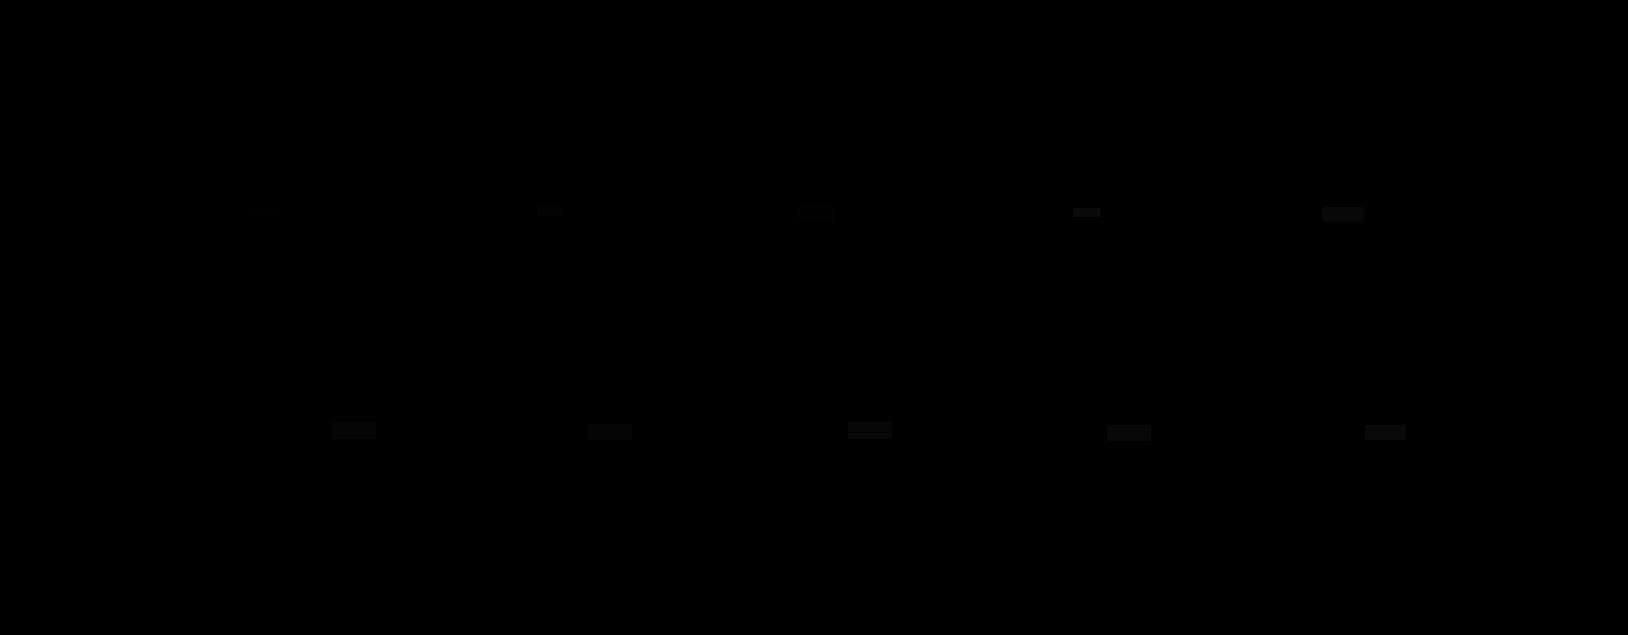light: (332, 422, 376, 439), (848, 422, 892, 439), (588, 424, 632, 440), (1107, 425, 1151, 441), (1322, 208, 1364, 222), (1365, 425, 1406, 440), (246, 205, 284, 220), (797, 206, 836, 220), (1073, 208, 1101, 217), (537, 208, 565, 216)
